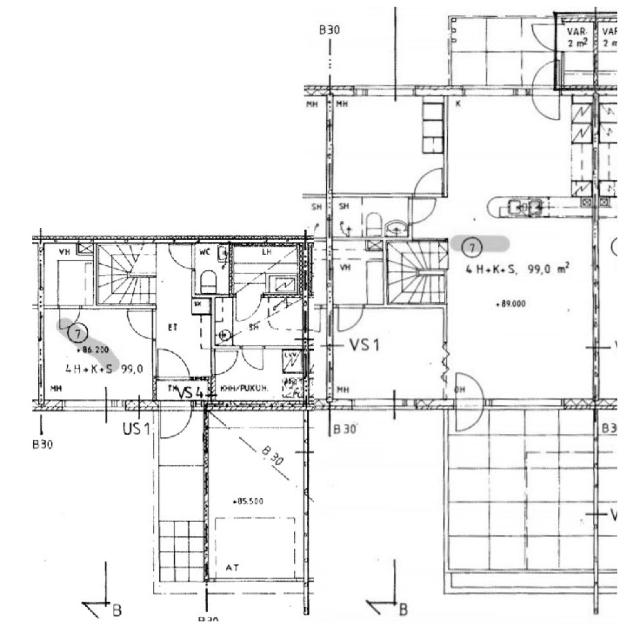door: (451, 369, 486, 436), (528, 59, 558, 122), (408, 166, 446, 210), (157, 400, 193, 441), (154, 346, 191, 382), (124, 305, 158, 341), (232, 289, 264, 325), (332, 302, 365, 335), (166, 240, 198, 272), (210, 347, 241, 377), (407, 196, 438, 226), (528, 20, 556, 51), (238, 344, 266, 374), (529, 59, 556, 88), (57, 305, 83, 329)
window: (460, 84, 520, 102), (349, 396, 396, 416), (33, 309, 46, 346)
zone: (441, 213, 598, 407), (443, 95, 592, 216), (326, 306, 447, 406), (328, 96, 444, 197), (38, 306, 155, 404), (212, 296, 308, 348), (214, 348, 309, 400), (329, 239, 385, 305), (328, 196, 411, 240), (39, 243, 95, 308), (232, 245, 302, 294), (555, 27, 596, 89), (192, 242, 231, 296), (555, 19, 595, 52)
